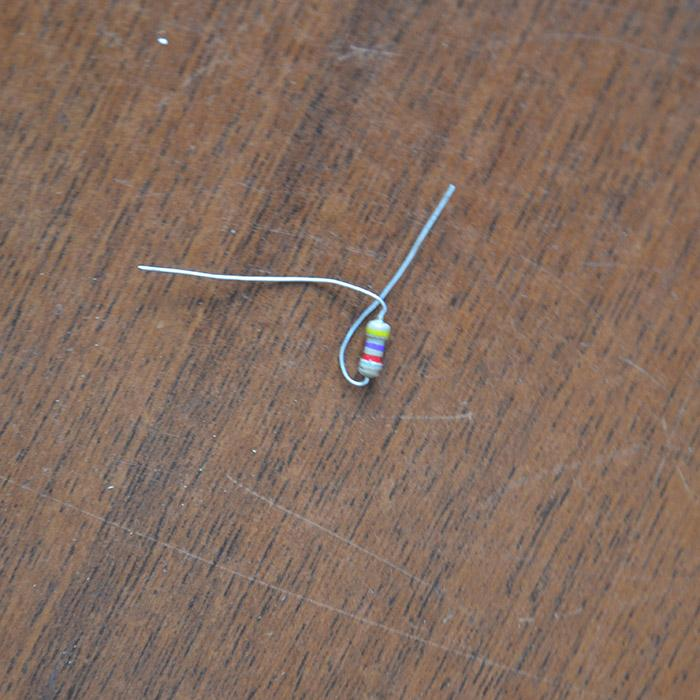resistor: (356, 317, 392, 379)
